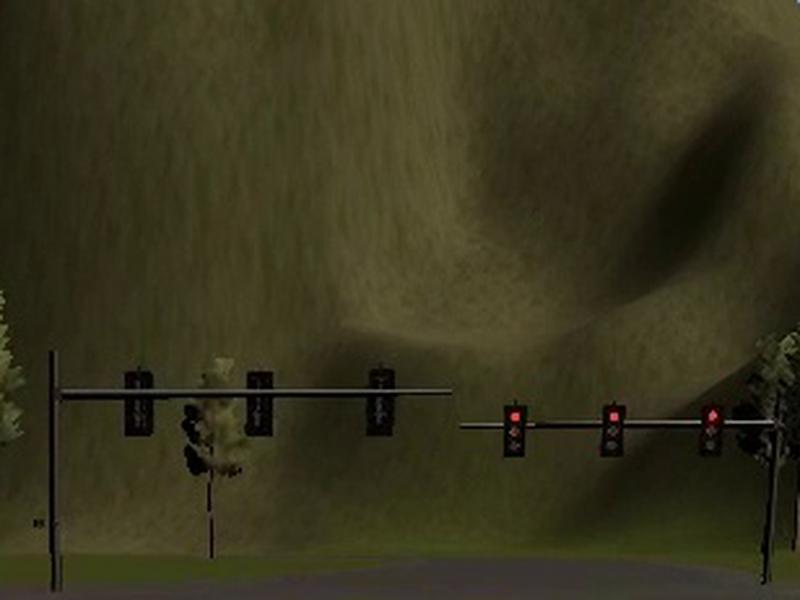Red: (600, 404, 627, 458), (503, 405, 528, 458), (700, 405, 725, 456)
